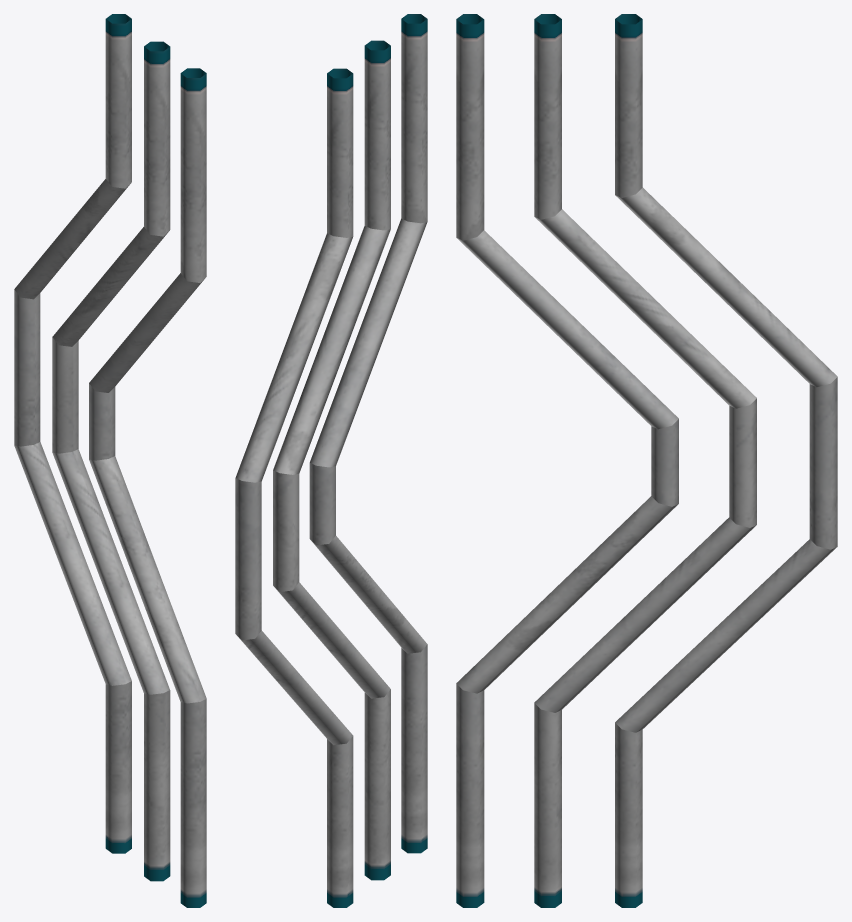
Rendered from CP_Pipe_A_2m_05.fbx.
The picture shows the model from 3 angles, left to right: view 1: azimuth 30°, elevation 25°; view 2: azimuth 150°, elevation 25°; view 3: azimuth 270°, elevation 25°; orthographic projection. The views are drawn at different scales.
Parts seen in each view (by area): view 1: CP_Pipe_A_2m_05; view 2: CP_Pipe_A_2m_05; view 3: CP_Pipe_A_2m_05.
Part boxes in pixels (box(x1,y1,x2,y2)): CP_Pipe_A_2m_05: box(14, 14, 206, 907); CP_Pipe_A_2m_05: box(235, 14, 427, 907); CP_Pipe_A_2m_05: box(456, 14, 837, 907).
Size of the model in its own units: 5.04 by 200 by 78.29.
